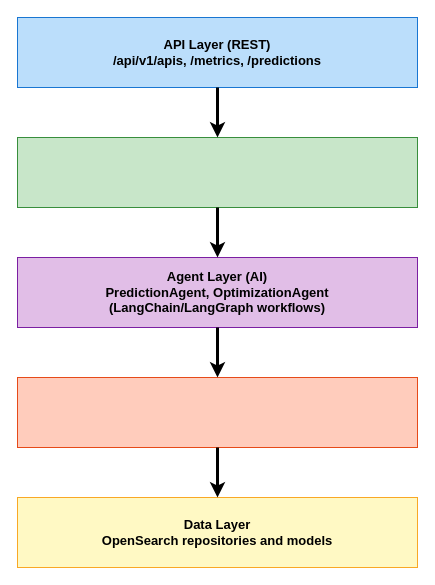
Image size: 435x585. Some labels were removed from this diagram. Here are the shapes that lost their labels. From the top down, the centre of each, then its label:
At point 217,172: "Service Layer Discovery, Metrics, Prediction, Security, Optimization, Query".
At point 217,412: "Adapter Layer Gateway adapters (Strategy pattern) Native, Kong, Apigee".
